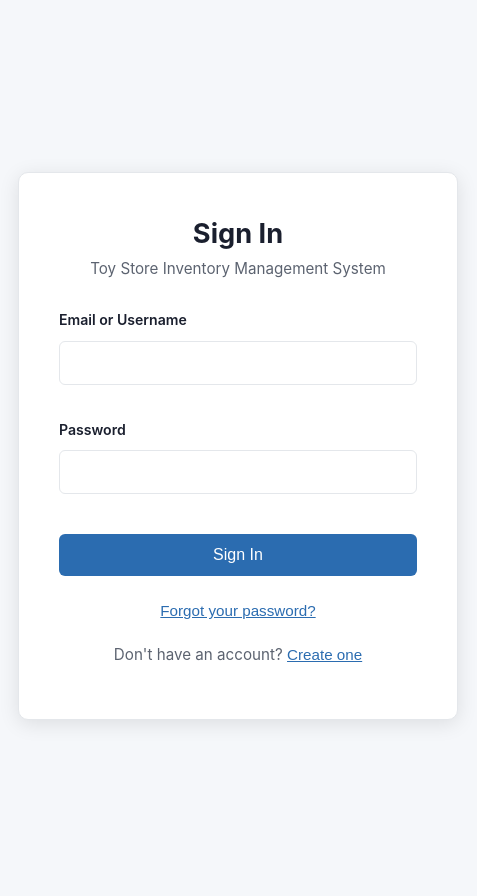
Test: Login Page › shows error when email format is invalid on registration
This screenshot has width=477, height=896.
Click the button "Create one" at (325, 655), box [287,646,362,663]
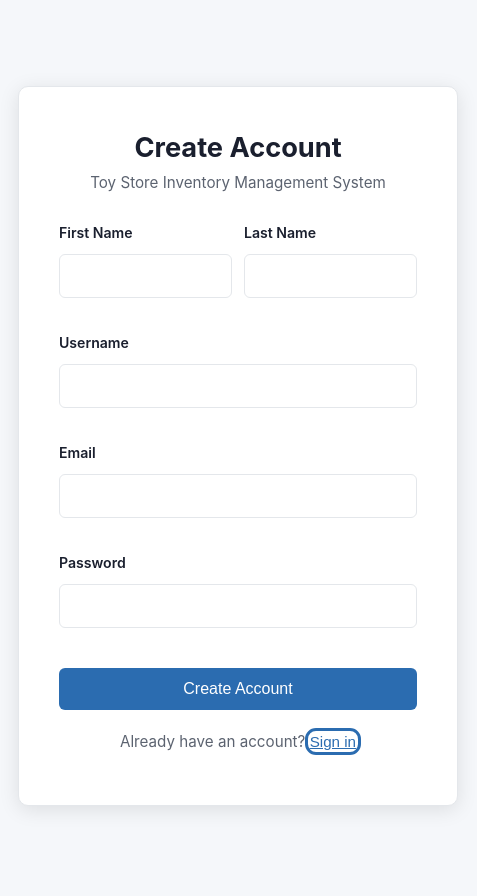
Type "Test" into the field labelled "First Name" at (146, 276), box [59,254,232,298]
Type "User" into the field labelled "Last Name" at (330, 276), box [244,254,417,298]
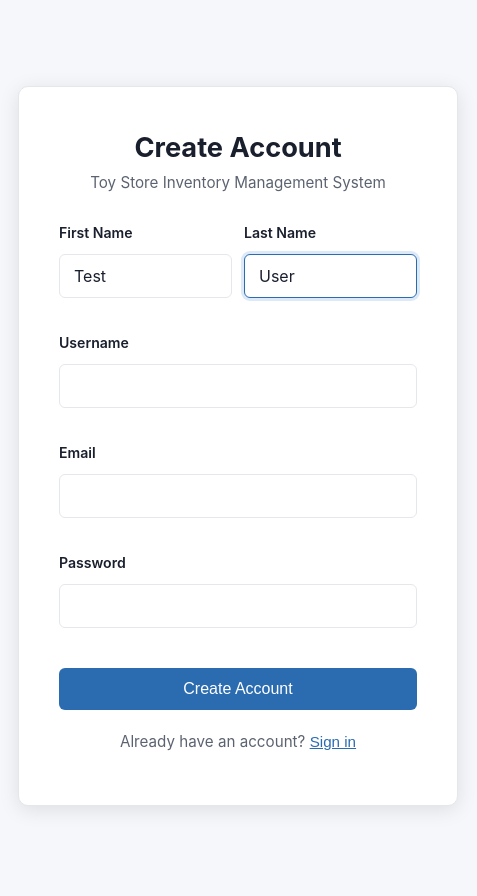
Type "testuser" into the field labelled "Username" at (238, 386), box [59,364,417,408]
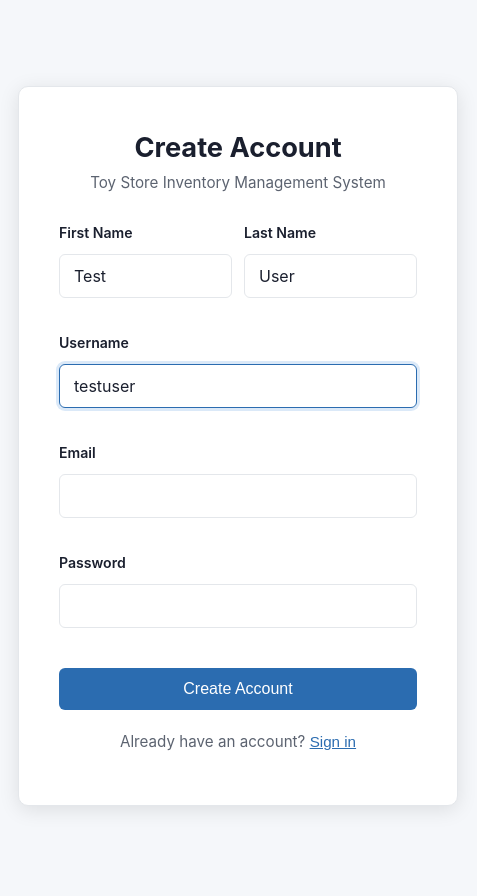
Type "notanemail" into the field labelled "Email" at (238, 496), box [59,474,417,518]
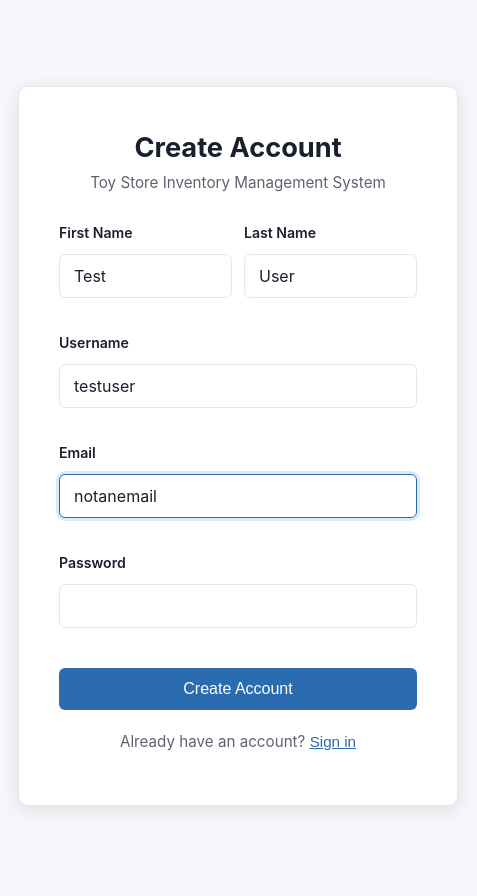
Type "Test1234!" into the password field labelled "Password" at (238, 606), box [59,584,417,628]
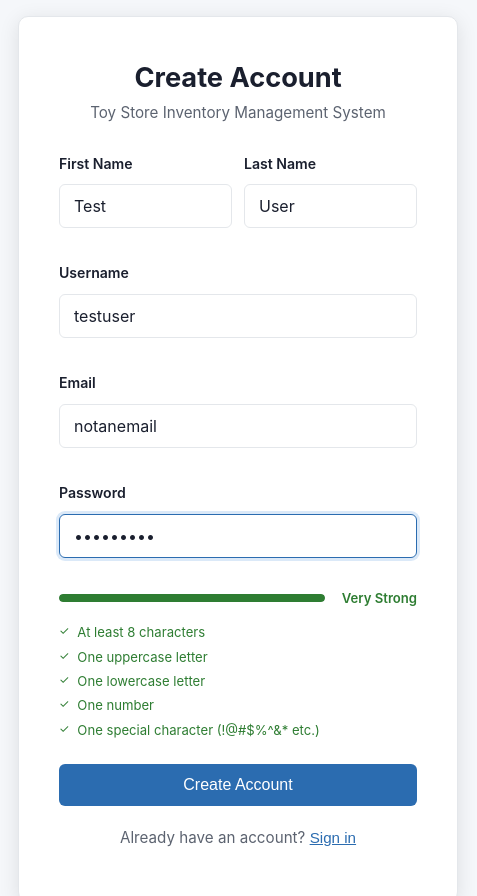
Click the button "Create Account" at (238, 785), box [59,764,417,806]
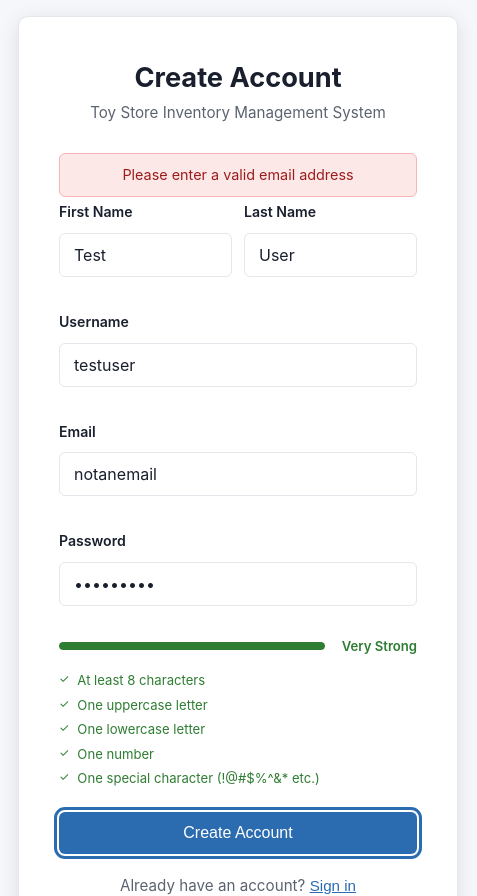
Expected: the message reads "Please enter a valid email address", [122,166,354,183]
